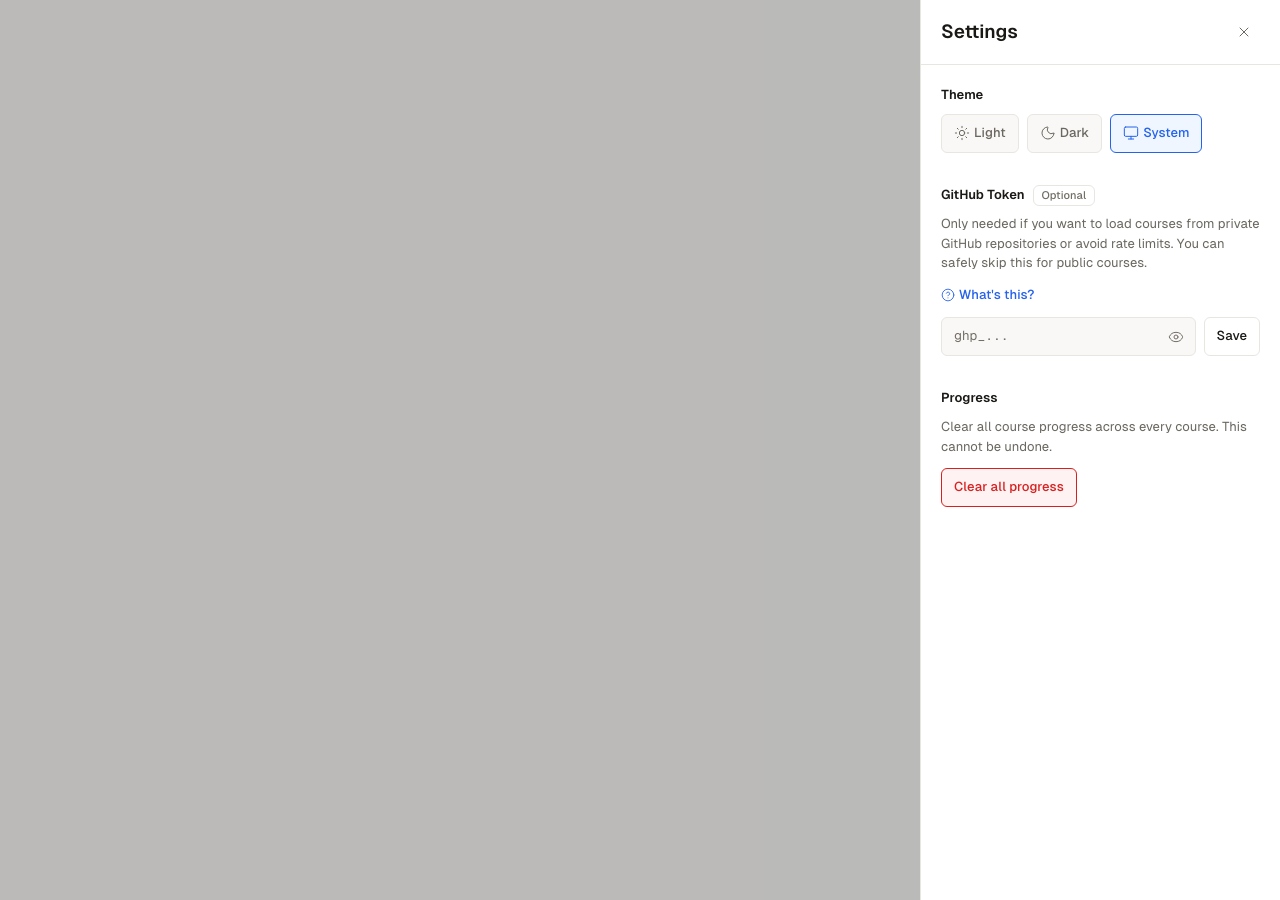
it: SettingsPanel › clear all progress › cancels confirmation without clearing
This screenshot has width=1280, height=900.
What coordinates should you click on to do the following:
click the button "Clear all progress"
I would click on:
 (1009, 488)
Its box is [941, 468, 1077, 507].
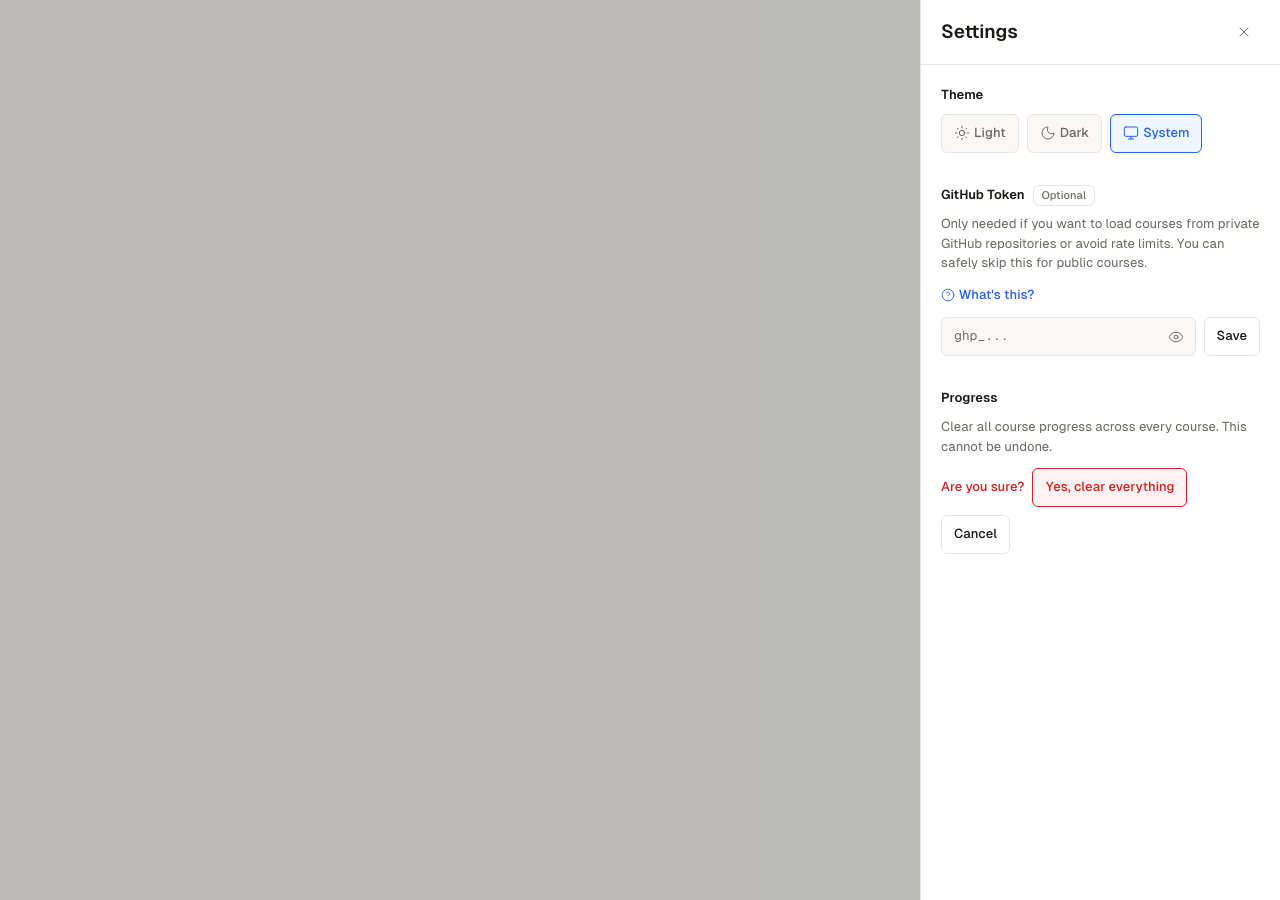
What coordinates should you click on to do the following:
click the button "Cancel"
I would click on:
 (976, 534)
Its box is [941, 515, 1010, 554].
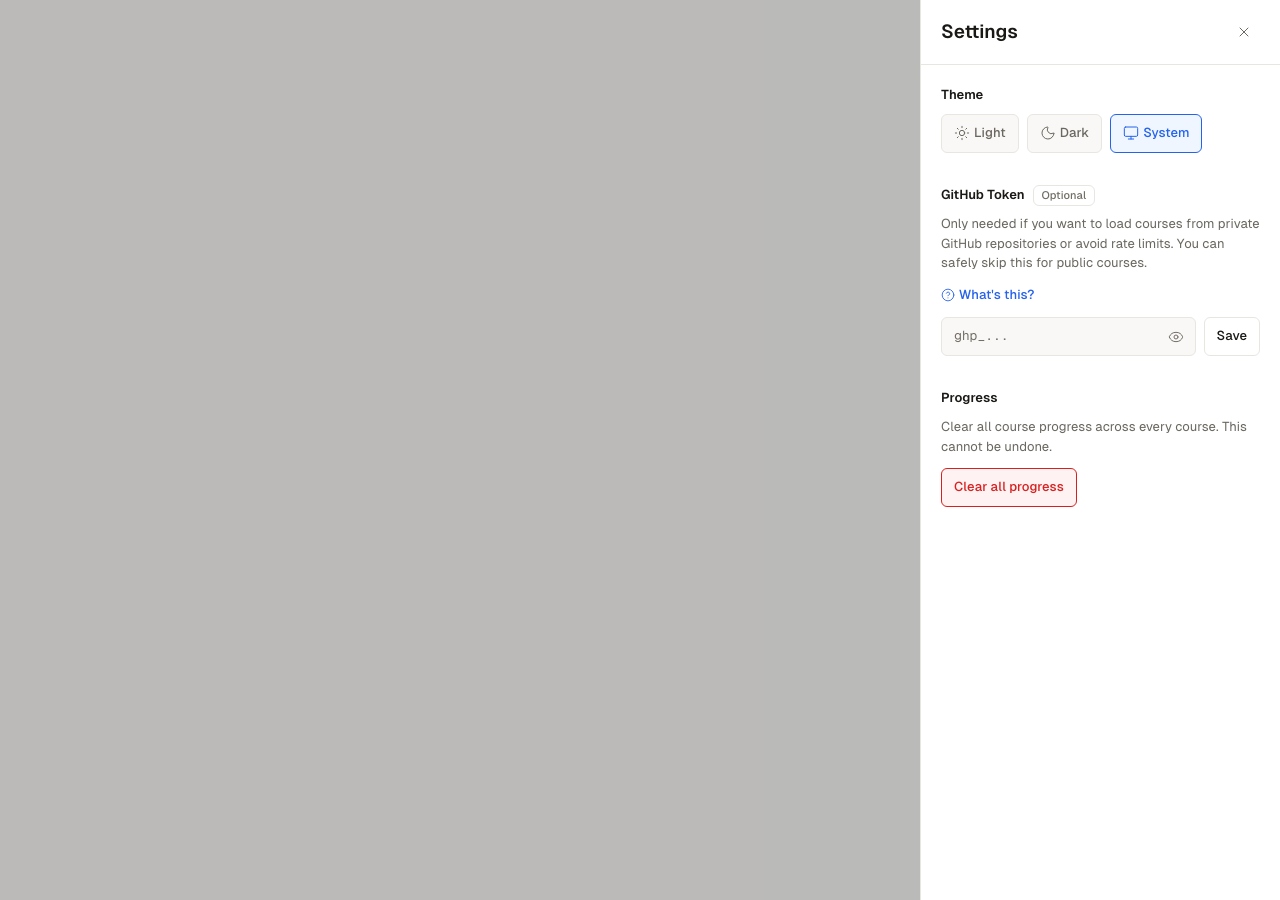
Expected: the text "Are you sure?" is gone
